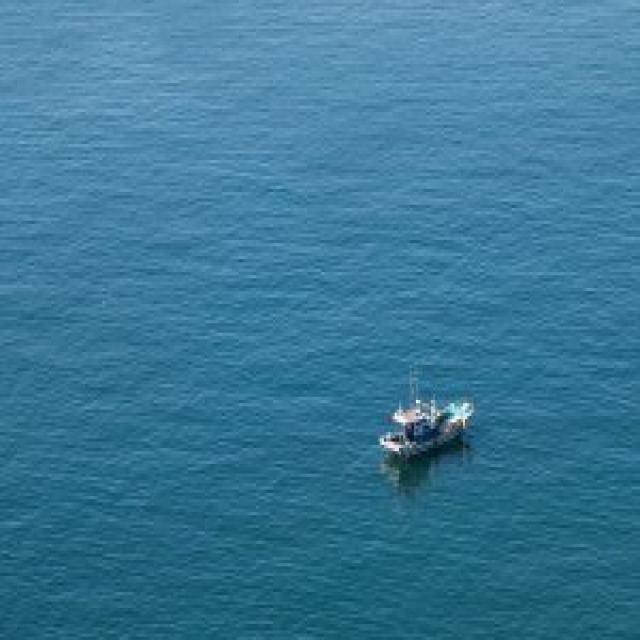Ship: (379, 363, 484, 472)
